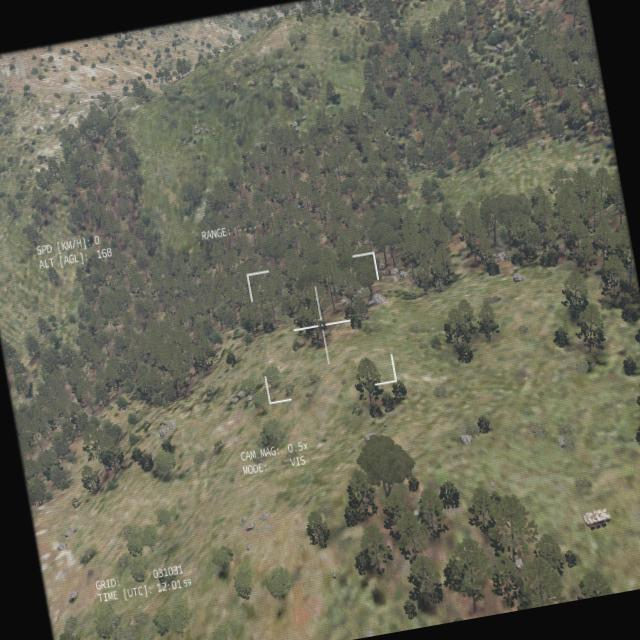apc: (581, 506, 612, 532)
